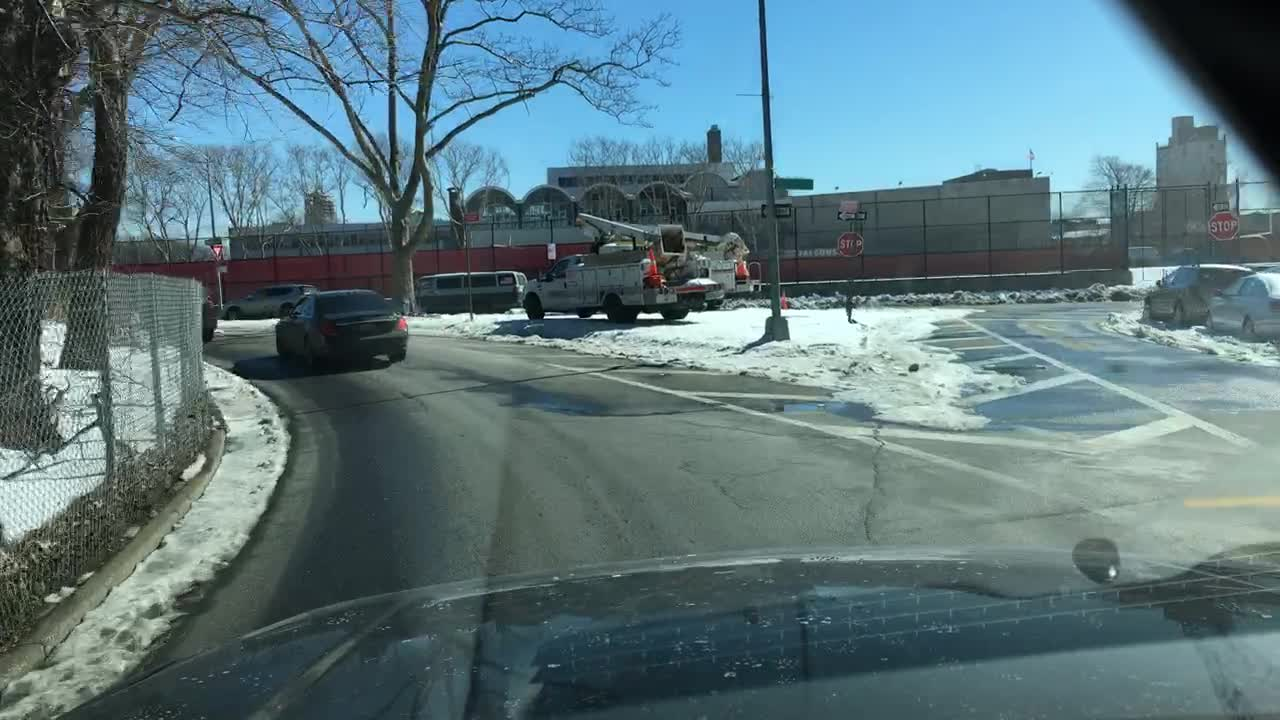bus: (415, 268, 526, 317)
car: (274, 288, 406, 364), (1143, 263, 1248, 327), (1200, 262, 1278, 338), (219, 281, 307, 319)
traffic sign: (1206, 205, 1237, 239), (838, 232, 867, 254), (773, 178, 813, 190), (761, 205, 791, 219), (200, 237, 222, 256), (837, 210, 868, 219)
truck: (522, 210, 720, 324), (618, 226, 762, 311)
